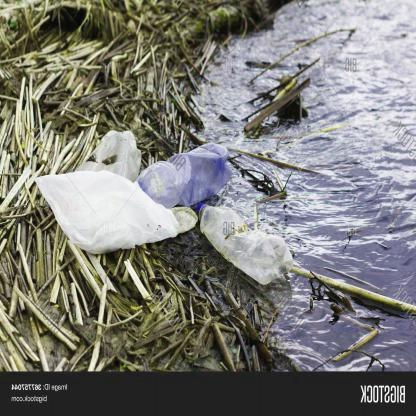Plastic: (192, 197, 297, 287), (128, 135, 228, 210)
Trash: (33, 170, 203, 257), (76, 125, 142, 173)
